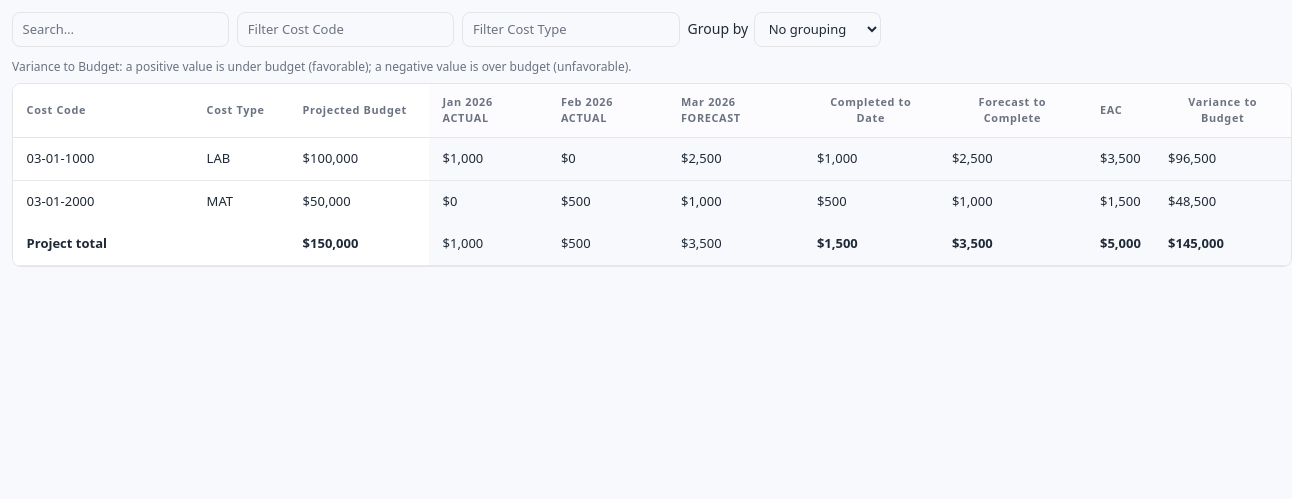
ForecastMonthlyMatrixTable › groups by Cost Category using the backend-derived category
Select "Cost Category" in the dropdown named "Group rows": coordinates (818, 29) [754,12,881,47]
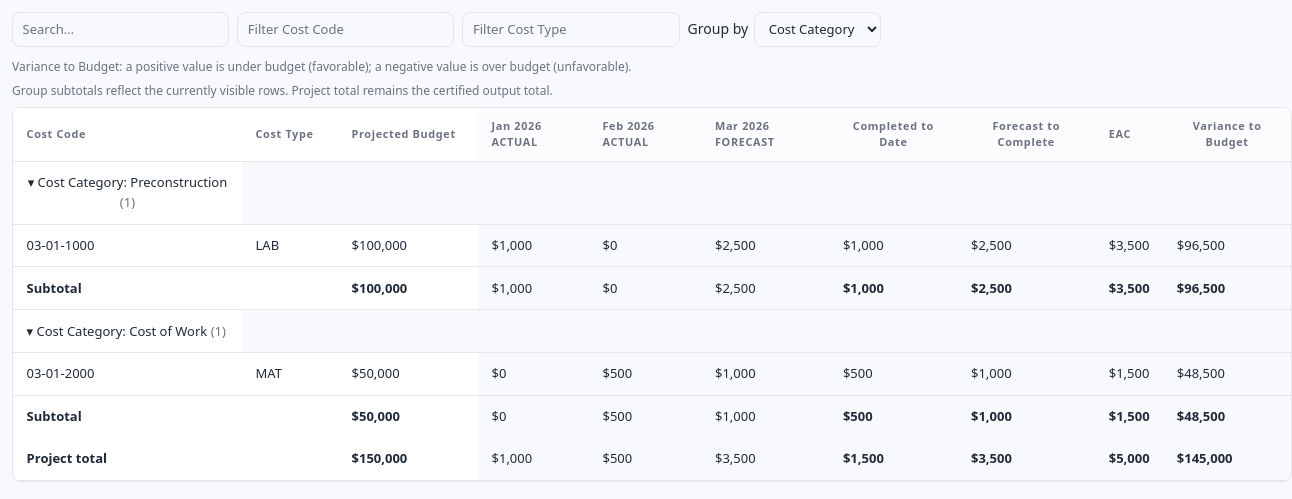
expect the text "Cost Category: Preconstruction" is shown: met, box [38,173,227,191]
expect the text "Cost Category: Cost of Work" is shown: met, box [36,322,207,340]
expect the text "Group subtotals reflect the currently visible rows" is shown: met, box [12,82,553,99]
